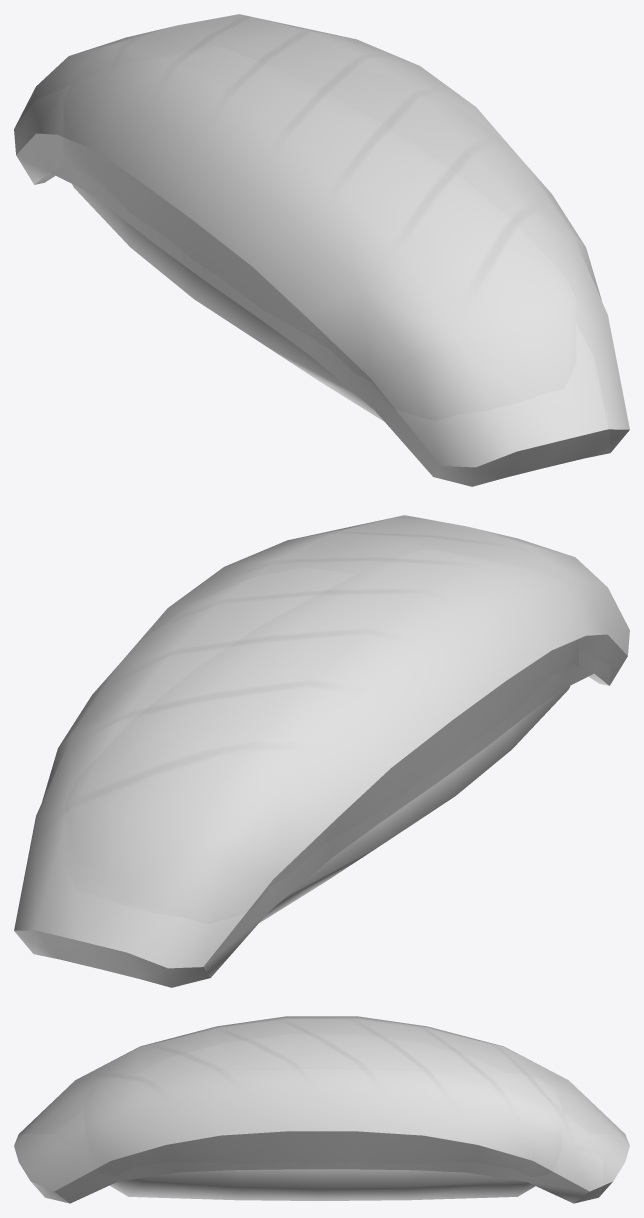
File: Sushi_Squid.FBX
The picture shows the model from 3 angles, top to bottom: view 1: azimuth 30°, elevation 25°; view 2: azimuth 150°, elevation 25°; view 3: azimuth 270°, elevation 25°; orthographic projection. The views are drawn at different scales.
Parts seen in each view (by area): view 1: sushi_ika, syari_ika; view 2: sushi_ika, syari_ika; view 3: sushi_ika, syari_ika.
Part boxes in pixels (<box>): sushi_ika: <box>14,14,629,486</box>; syari_ika: <box>72,184,384,421</box>; sushi_ika: <box>14,515,629,987</box>; syari_ika: <box>259,686,570,922</box>; sushi_ika: <box>14,1016,629,1203</box>; syari_ika: <box>110,1169,535,1200</box>.
Size of the model in its own units: 0.0354 by 0.0238 by 0.0951.
